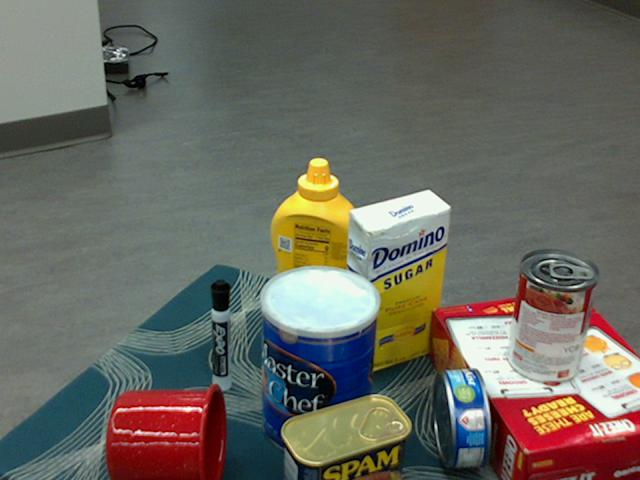cracker_box: (426, 292, 639, 479)
large_marker: (209, 278, 229, 390)
master_chef_can: (260, 266, 381, 461)
mug: (105, 383, 226, 479)
mustard_bottle: (268, 158, 363, 338)
potted_meat_can: (281, 395, 411, 479)
sugar_box: (340, 191, 451, 376)
tomato_soup_can: (506, 251, 597, 385)
tuna_fish_can: (433, 367, 491, 468)
